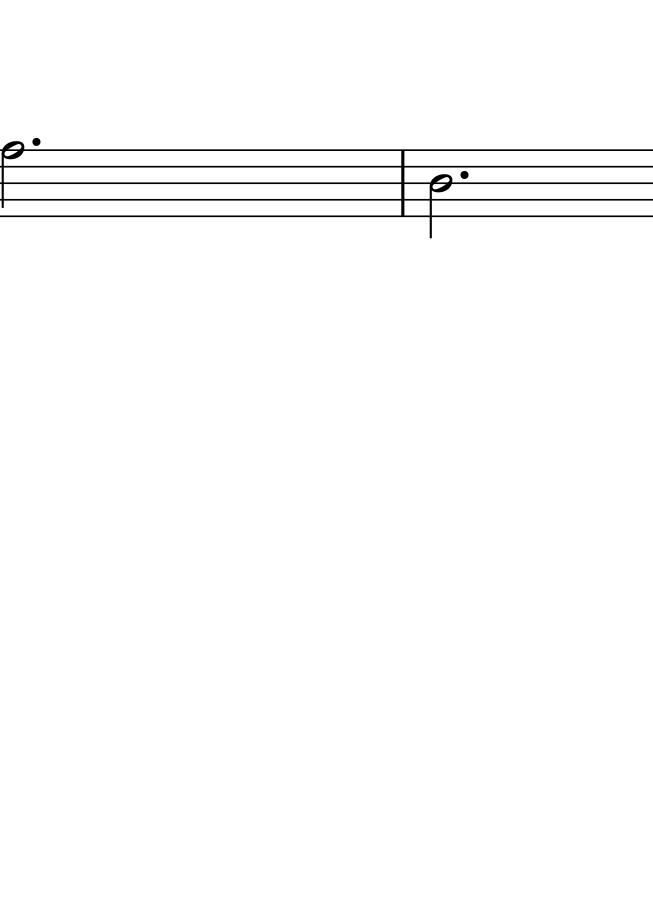2_4: (427, 148, 450, 240)
2_8: (1, 138, 24, 221)
Single_barline: (396, 150, 409, 216)
dot: (27, 134, 45, 153), (456, 164, 473, 184), (457, 168, 473, 183), (29, 134, 45, 148)
